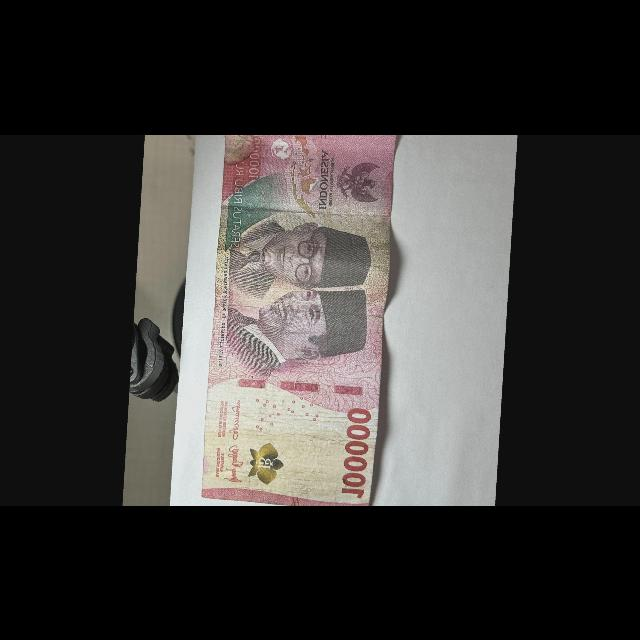Palsu-100k: (196, 121, 400, 512)
Tinta-Palsu-100k: (246, 438, 287, 488)
